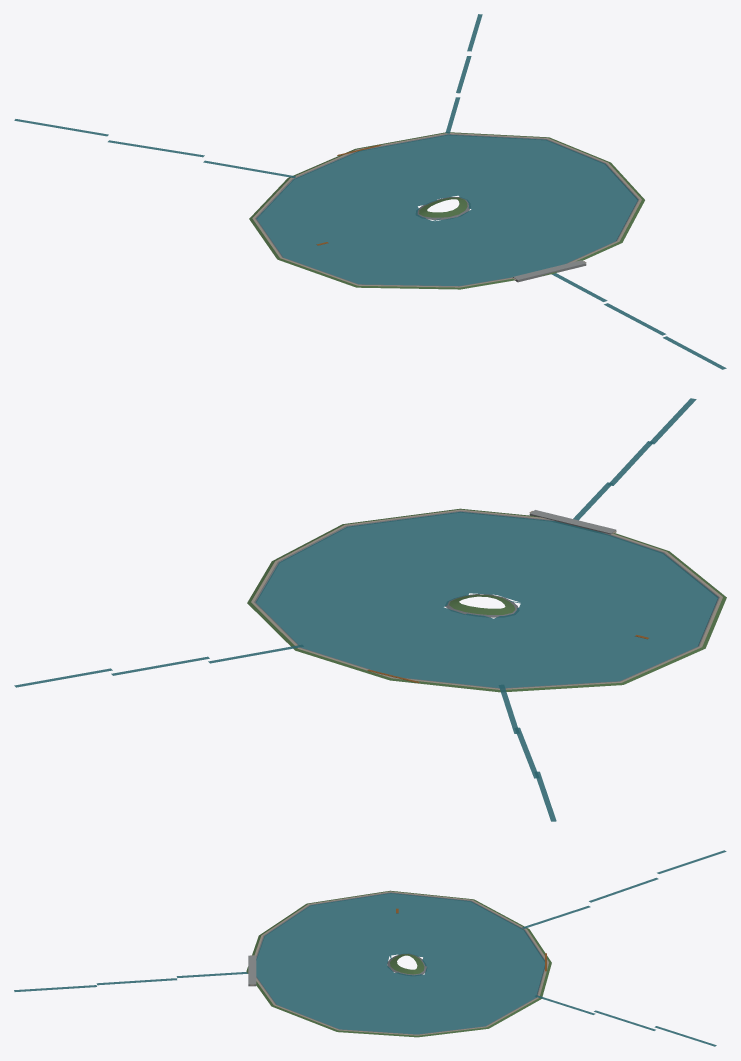
File: water_ho_van_kiep_da_phu.glb
The picture shows the model from 3 angles, top to bottom: view 1: azimuth 30°, elevation 25°; view 2: azimuth 150°, elevation 25°; view 3: azimuth 270°, elevation 25°; orthographic projection. The views are drawn at different scales.
Parts seen in each view (by area): view 1: water_surface_water_ho_van_kiep_da_phu, shoreline_terrain_transition_verge_water_ho_van_kiep_da_phu, lakeside_promenade_walkway_water_ho_van_kiep_da_phu, embankment_stone_coping_water_ho_van_kiep_da_phu, headwater_terraces_stream_da_phu_northwest_pine_inflow, headwater_terraces_stream_van_kiep_south_outflow, headwater_terraces_stream_thanh_mau_northeast_inflow; view 2: water_surface_water_ho_van_kiep_da_phu, shoreline_terrain_transition_verge_water_ho_van_kiep_da_phu, lakeside_promenade_walkway_water_ho_van_kiep_da_phu, embankment_stone_coping_water_ho_van_kiep_da_phu, headwater_terraces_stream_van_kiep_south_outflow, headwater_terraces_stream_da_phu_northwest_pine_inflow, headwater_terraces_stream_thanh_mau_northeast_inflow, island_pine_mound_slope_island_van_kiep_01_da_phu_pine_islet; view 3: water_surface_water_ho_van_kiep_da_phu, shoreline_terrain_transition_verge_water_ho_van_kiep_da_phu, lakeside_promenade_walkway_water_ho_van_kiep_da_phu, embankment_stone_coping_water_ho_van_kiep_da_phu, headwater_terraces_stream_van_kiep_south_outflow, headwater_terraces_stream_da_phu_northwest_pine_inflow, headwater_terraces_stream_thanh_mau_northeast_inflow, embankment_stone_slope_water_ho_van_kiep_da_phu, island_pine_mound_slope_island_van_kiep_01_da_phu_pine_islet.
Boxes of the visible parts, box(x1,y1,x2,y2) form: water_surface_water_ho_van_kiep_da_phu: box(256, 134, 637, 285); shoreline_terrain_transition_verge_water_ho_van_kiep_da_phu: box(249, 132, 644, 289); lakeside_promenade_walkway_water_ho_van_kiep_da_phu: box(252, 133, 641, 287); embankment_stone_coping_water_ho_van_kiep_da_phu: box(255, 134, 639, 286); headwater_terraces_stream_da_phu_northwest_pine_inflow: box(14, 119, 295, 178); headwater_terraces_stream_van_kiep_south_outflow: box(552, 273, 726, 369); headwater_terraces_stream_thanh_mau_northeast_inflow: box(445, 14, 482, 133); water_surface_water_ho_van_kiep_da_phu: box(255, 511, 718, 687); shoreline_terrain_transition_verge_water_ho_van_kiep_da_phu: box(247, 508, 726, 692); lakeside_promenade_walkway_water_ho_van_kiep_da_phu: box(251, 509, 722, 689); embankment_stone_coping_water_ho_van_kiep_da_phu: box(254, 511, 719, 688); headwater_terraces_stream_van_kiep_south_outflow: box(573, 398, 696, 520); headwater_terraces_stream_da_phu_northwest_pine_inflow: box(498, 684, 556, 821); headwater_terraces_stream_thanh_mau_northeast_inflow: box(14, 644, 303, 687); island_pine_mound_slope_island_van_kiep_01_da_phu_pine_islet: box(449, 594, 515, 614); water_surface_water_ho_van_kiep_da_phu: box(256, 893, 544, 1034); shoreline_terrain_transition_verge_water_ho_van_kiep_da_phu: box(246, 890, 551, 1037); lakeside_promenade_walkway_water_ho_van_kiep_da_phu: box(254, 891, 548, 1035); embankment_stone_coping_water_ho_van_kiep_da_phu: box(256, 892, 544, 1034); headwater_terraces_stream_van_kiep_south_outflow: box(14, 972, 247, 991); headwater_terraces_stream_da_phu_northwest_pine_inflow: box(522, 850, 726, 928); headwater_terraces_stream_thanh_mau_northeast_inflow: box(534, 995, 716, 1046); embankment_stone_slope_water_ho_van_kiep_da_phu: box(256, 892, 544, 994); island_pine_mound_slope_island_van_kiep_01_da_phu_pine_islet: box(390, 954, 424, 974).
Size of the model in its own units: 947 by 36.5 by 1468.
